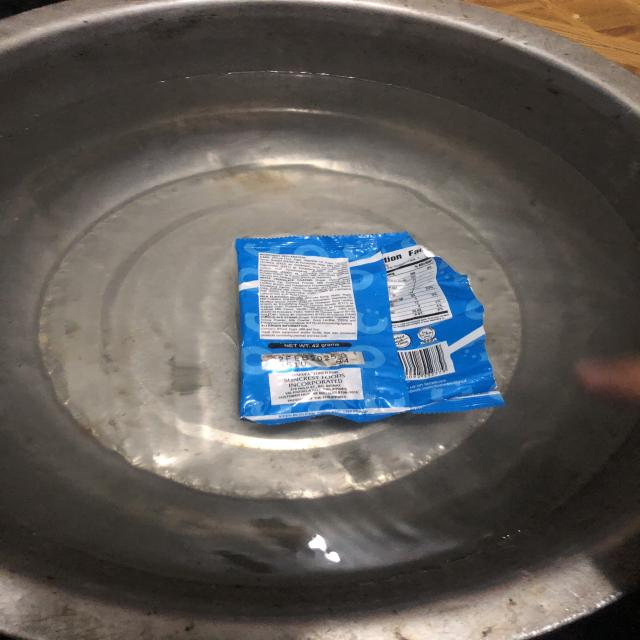Plastic Wrapper: (186, 204, 561, 458)
